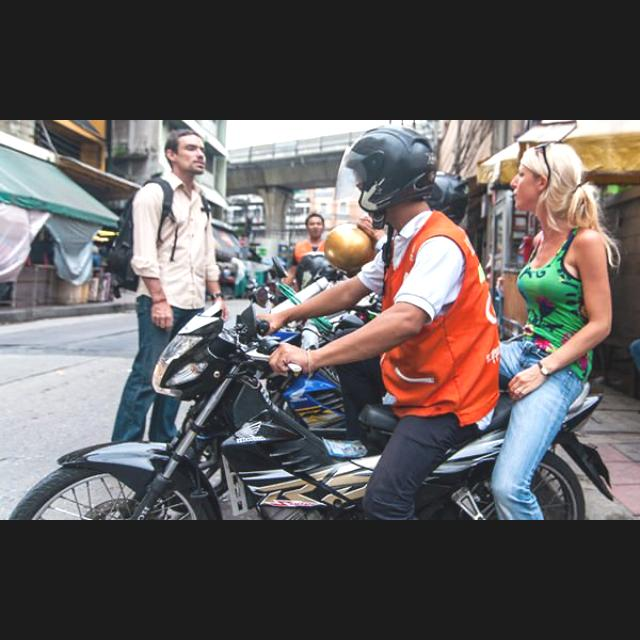With Helmet: (333, 120, 447, 228)
